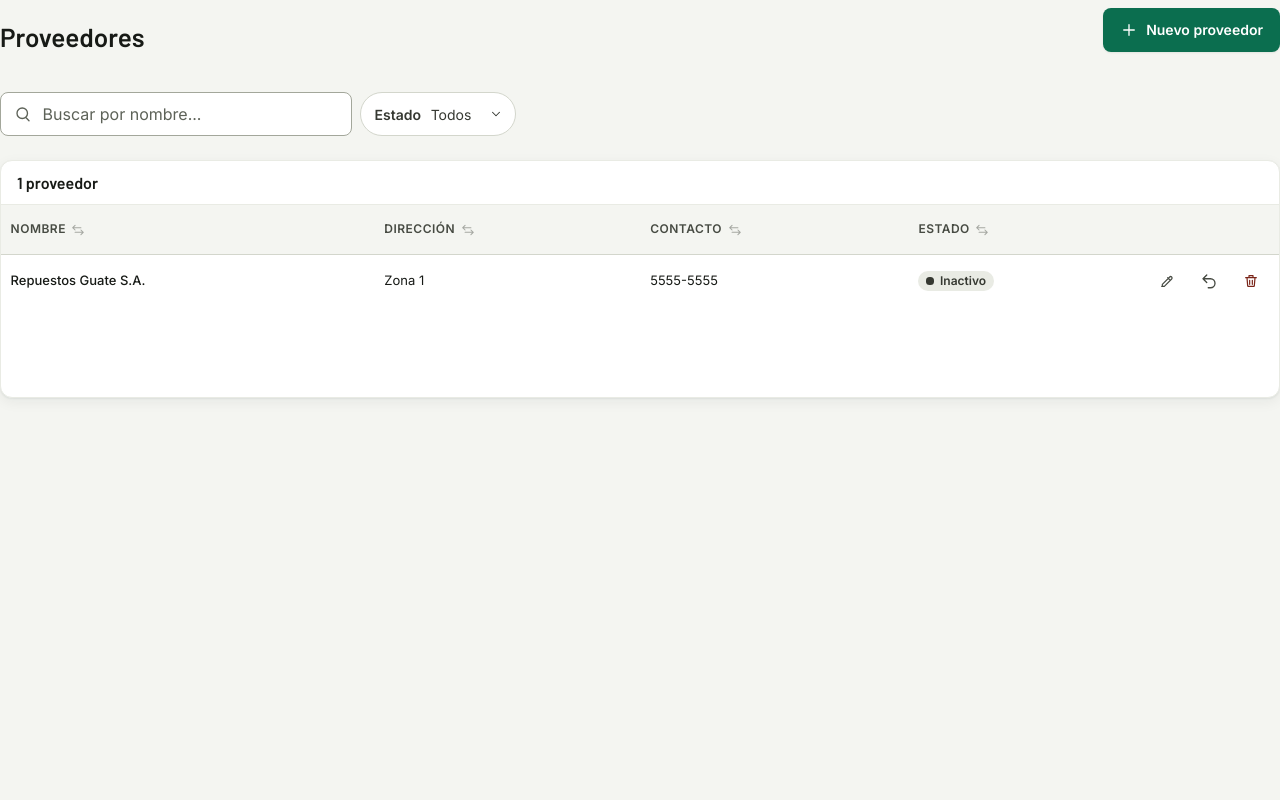
ProveedoresPage › muestra el badge de estado y permite reactivar un proveedor inactivo
The width and height of the screenshot is (1280, 800).
Expected: the text "Inactivo" is shown, [918, 271, 994, 291]
Click the button named "activar". click: (1209, 281)
box: [1187, 259, 1231, 303]
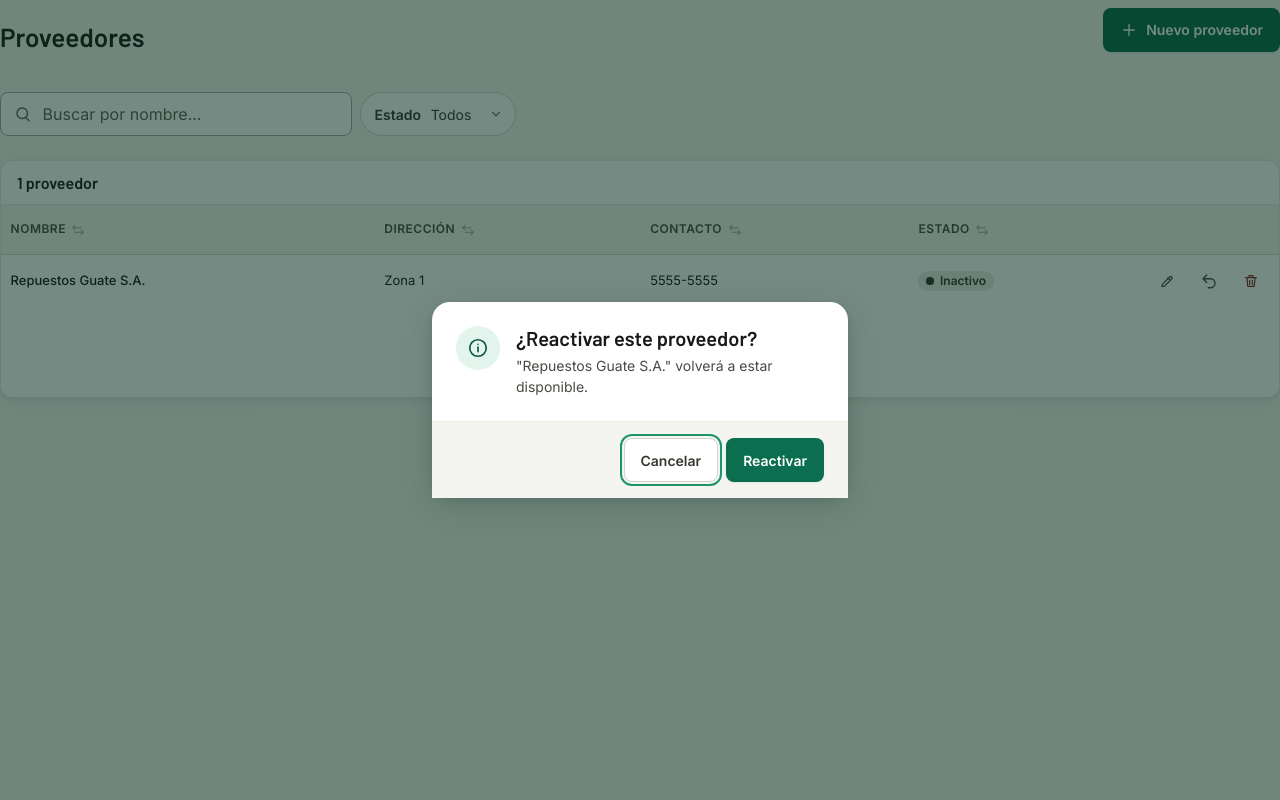
Click the button "Reactivar". click: (775, 460)
box: [726, 438, 824, 482]
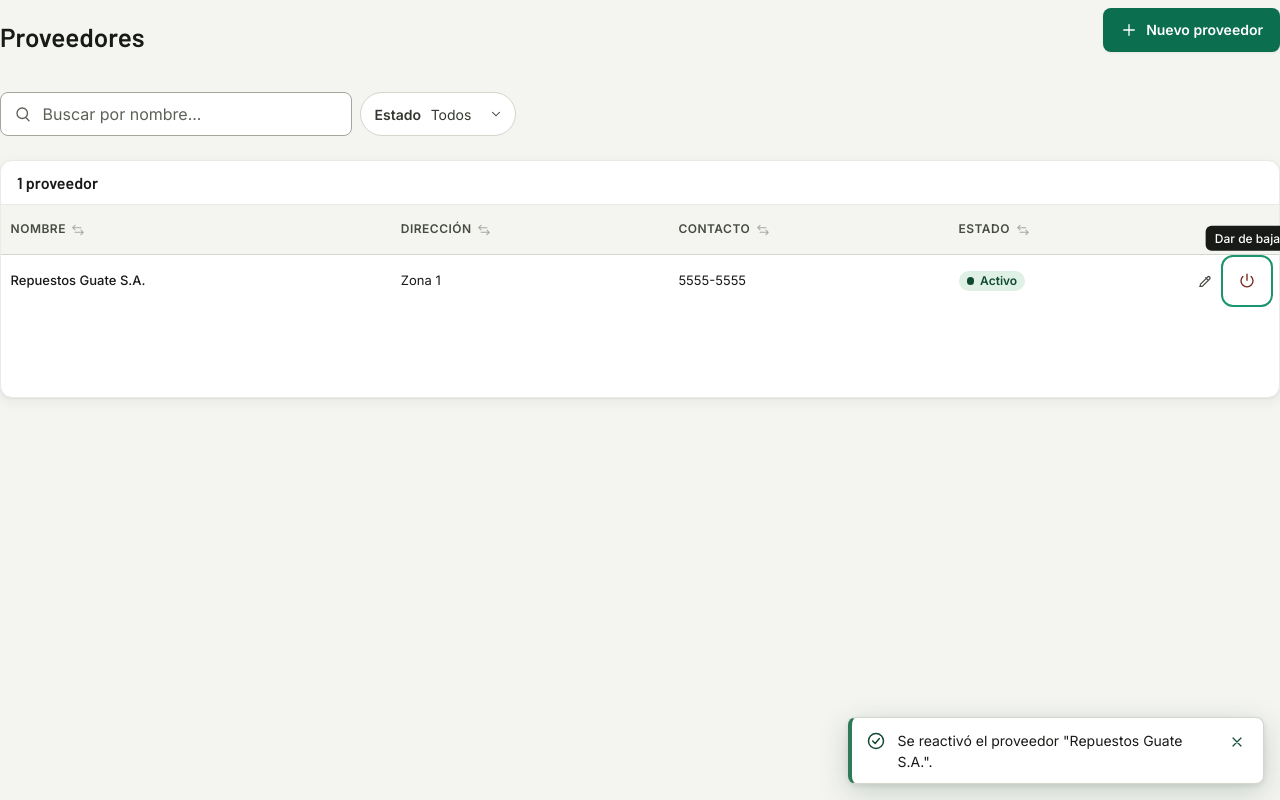
Expected: the text "Se reactivó el proveedor \"Repuestos Guate S.A.\"." is shown, [898, 729, 1208, 772]
